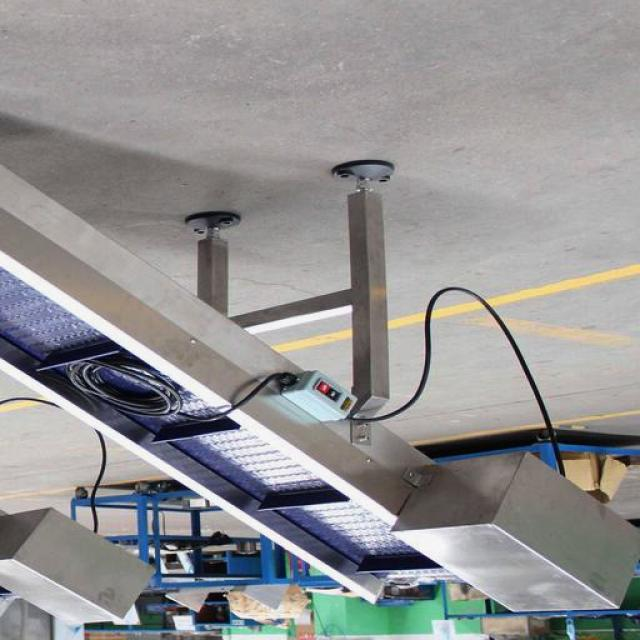conveyor: (0, 255, 459, 586)
